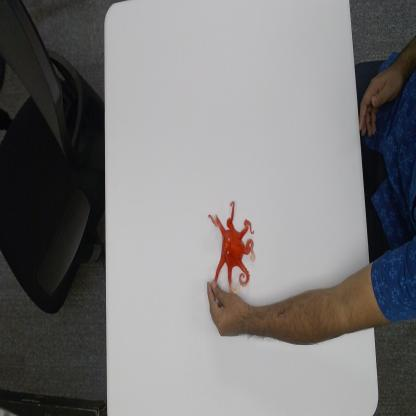Arm: (259, 264, 377, 346)
Hand: (205, 278, 258, 340)
Octopus: (207, 198, 256, 296)
